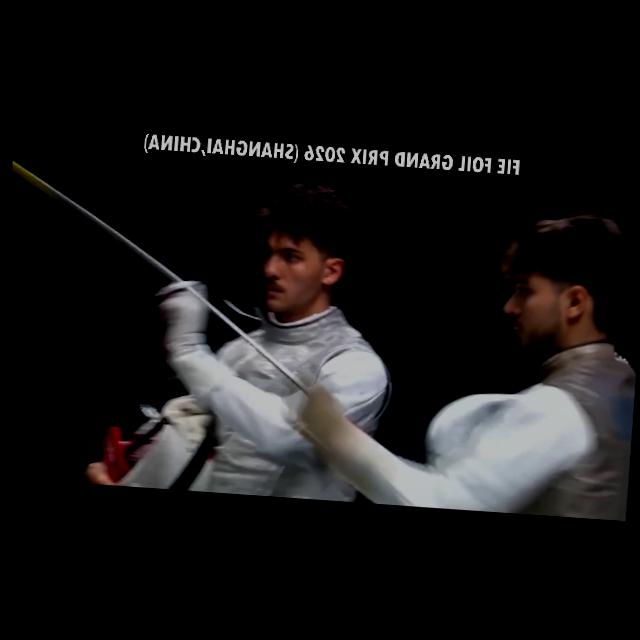blade: (0, 154, 358, 439)
